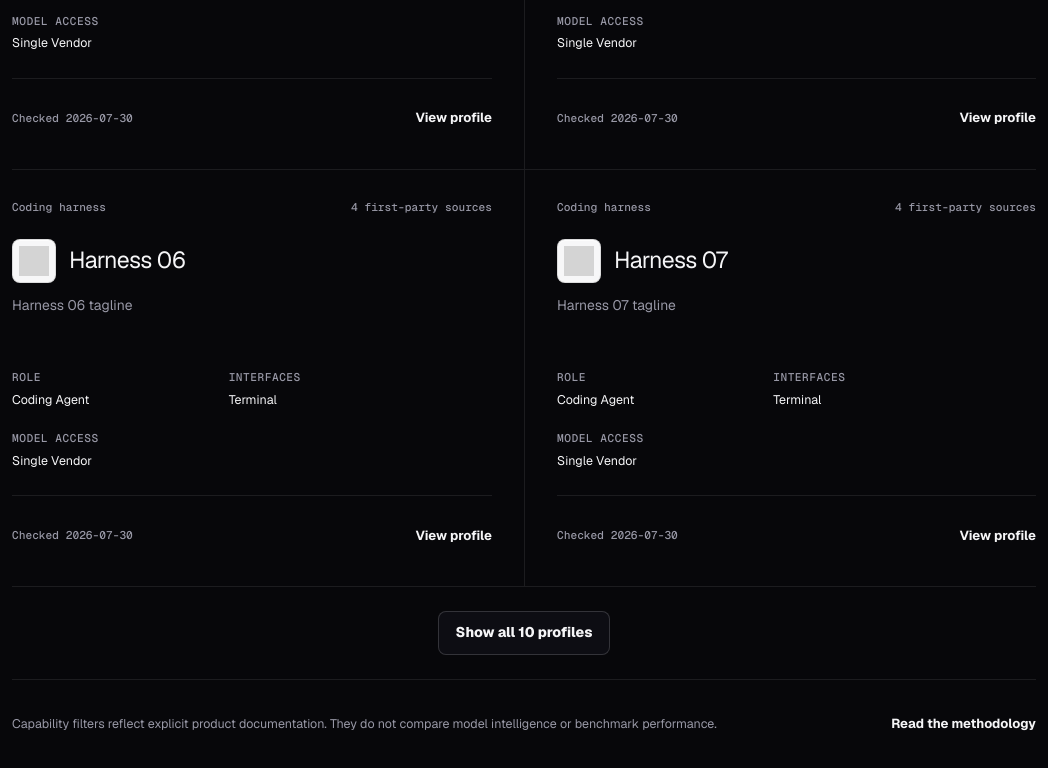
Scenario: harness lens explorer interactions › returns the viewport to the explorer when collapsing the full list
(page scrolled)
Click the button "Show all 10 profiles" at (524, 633), box [438,611,610,655]
(page scrolled)
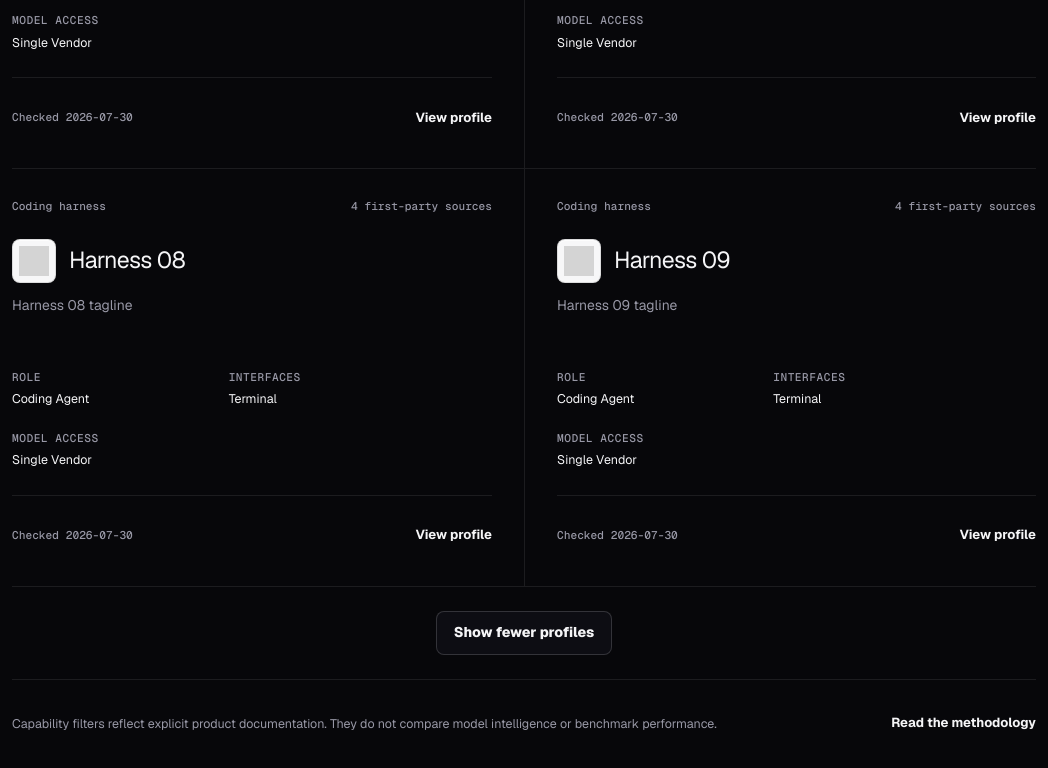
Check: the number of elements with class "lens-card" is 10
Click the button "Show fewer profiles" at (524, 632), box [436,610,612,654]
(page scrolled)
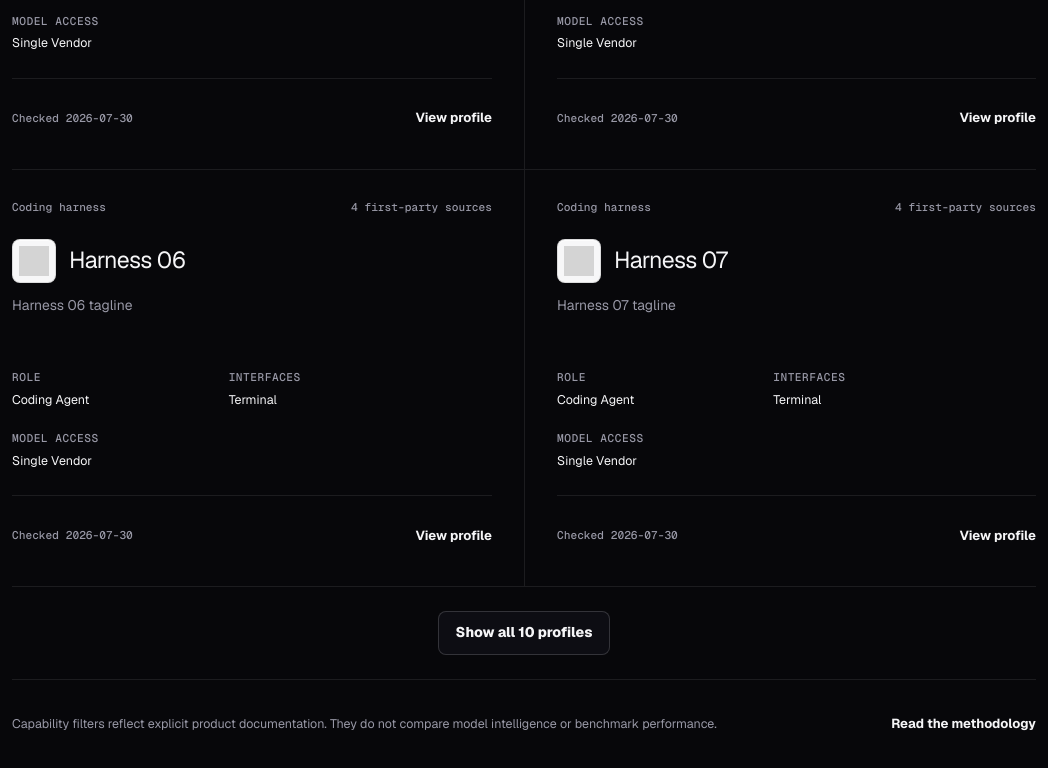
Check: the number of elements with class "lens-card" is 8
